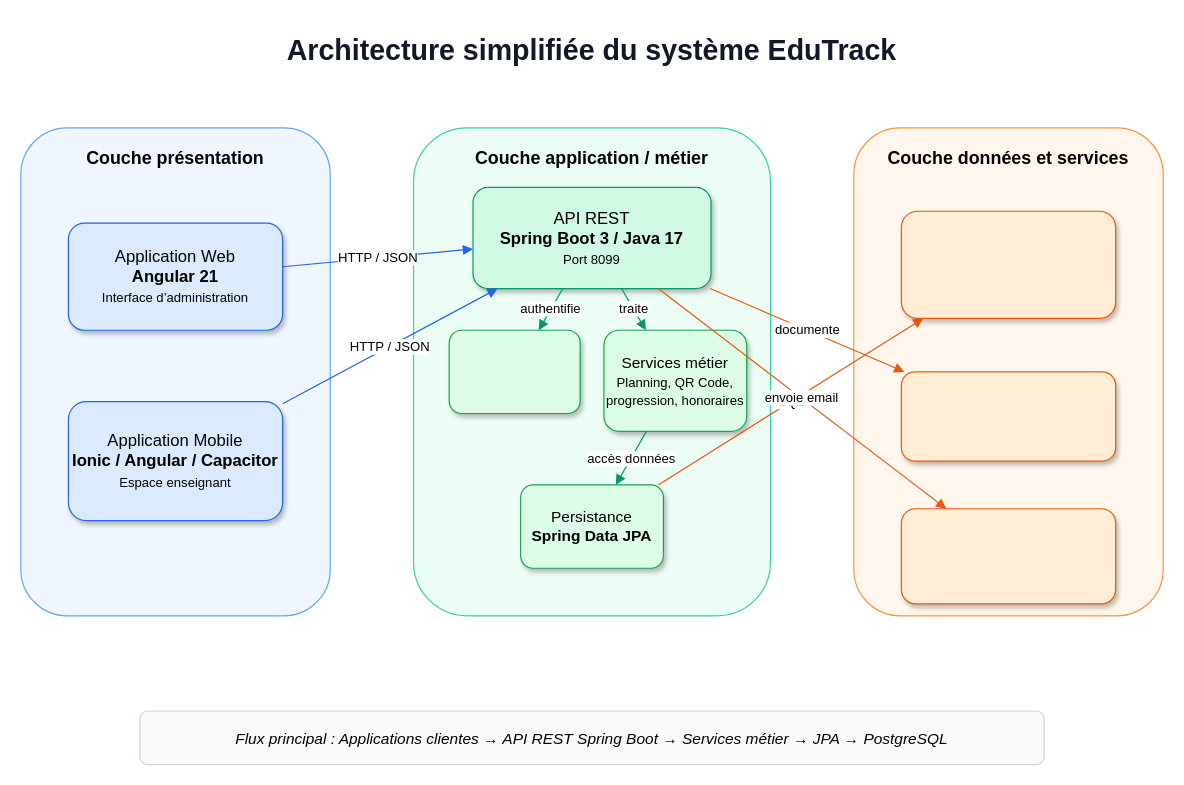
This 1184x785 diagram has some shape labels left out. Each missing label, with the centre of its shape:
"Base de données PostgreSQL db_suivipedago" belongs at point 1009,266.
"Documentation API Swagger / OpenAPI" belongs at point 1009,417.
"Service mail SMTP Gmail Réinitialisation / codes" belongs at point 1009,557.
"Sécurité Spring Security + JWT" belongs at point 515,373.
